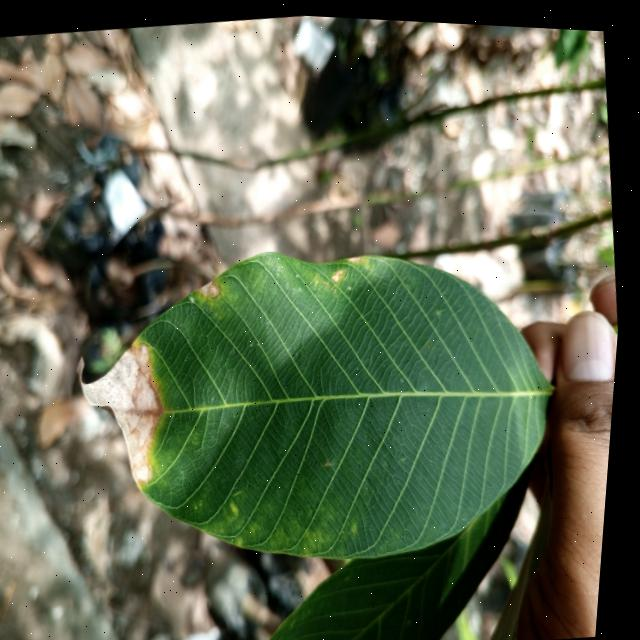Colletotrichum: (198, 275, 225, 296)
